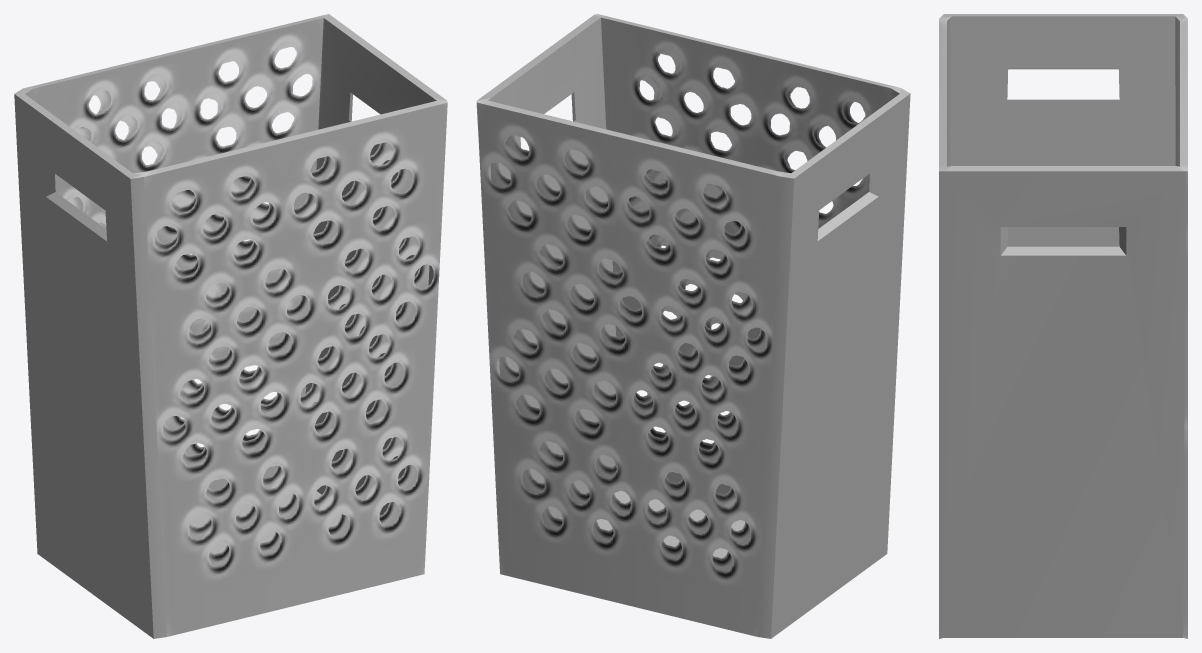
File: Hamper_C.FBX
The picture shows the model from 3 angles, left to right: view 1: azimuth 30°, elevation 25°; view 2: azimuth 150°, elevation 25°; view 3: azimuth 270°, elevation 25°; orthographic projection. The views are drawn at different scales.
Visible parts, largest first — view 1: Hamper; view 2: Hamper; view 3: Hamper.
Part boxes in pixels (x1,y1,x2,y2): Hamper: [14, 14, 447, 638]; Hamper: [476, 14, 910, 638]; Hamper: [939, 14, 1187, 638].
Bounding box in the file's own units: 105 × 148 × 69.41.
